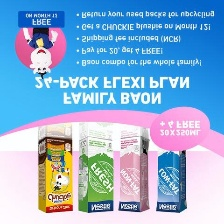carton: (34, 134, 77, 216), (74, 136, 115, 213), (117, 133, 154, 213), (156, 145, 195, 216)
